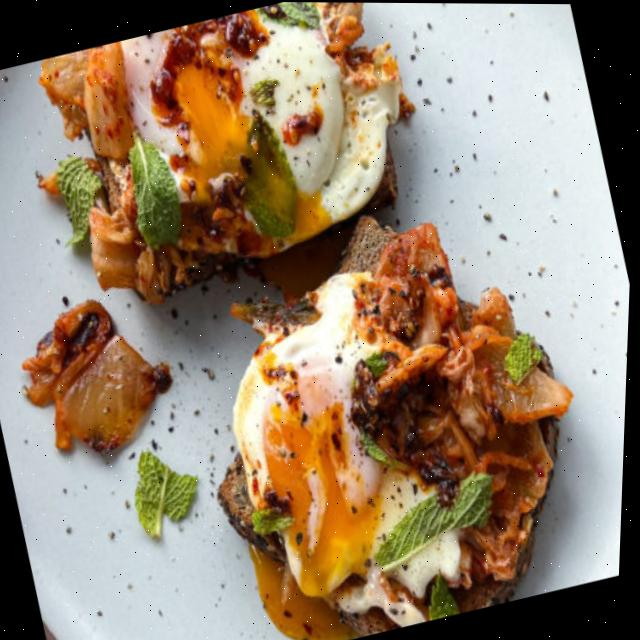Egg: (123, 4, 343, 248), (236, 272, 385, 594)
